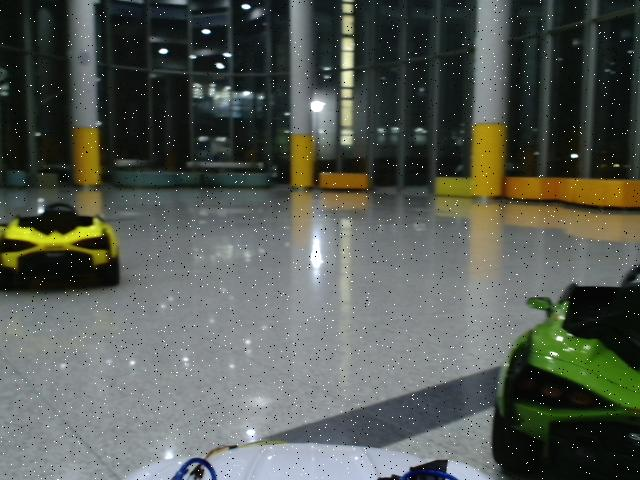car: (492, 264, 640, 480), (1, 204, 121, 292)
